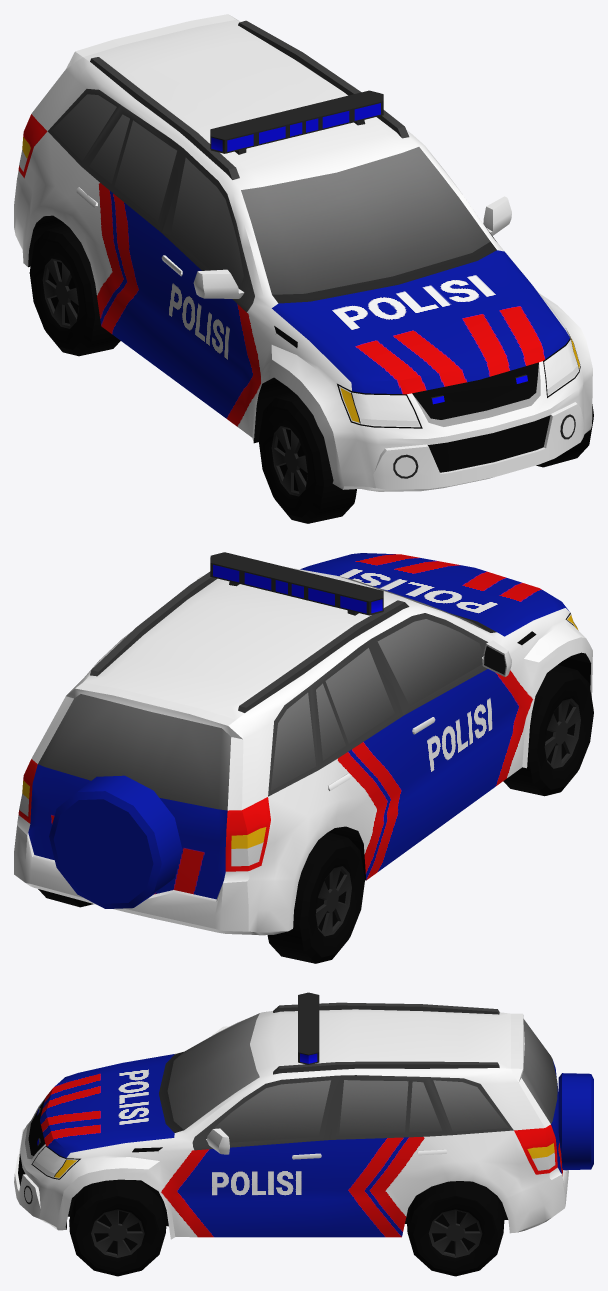
Rendered from polisi pajero.fbx.
3 views of the same model, one above another, from view 1: azimuth 30°, elevation 25°; view 2: azimuth 150°, elevation 25°; view 3: azimuth 270°, elevation 25° (orthographic). The views are drawn at different scales.
Parts seen in each view (by area): view 1: polisisuv, Plane.004, Plane.003; view 2: polisisuv, Plane.003, Plane.004; view 3: polisisuv, Plane.001, Plane.002.
Part boxes in pixels (x1,y1,x2,y2): polisisuv: (14, 14, 592, 491); Plane.004: (258, 392, 356, 523); Plane.003: (29, 225, 120, 356); polisisuv: (14, 552, 592, 935); Plane.003: (267, 832, 364, 963); Plane.004: (503, 665, 593, 796); polisisuv: (14, 992, 593, 1239); Plane.001: (69, 1179, 166, 1276); Plane.002: (407, 1181, 504, 1276).
Bounding box in the file's own units: 214 × 182 × 465.
